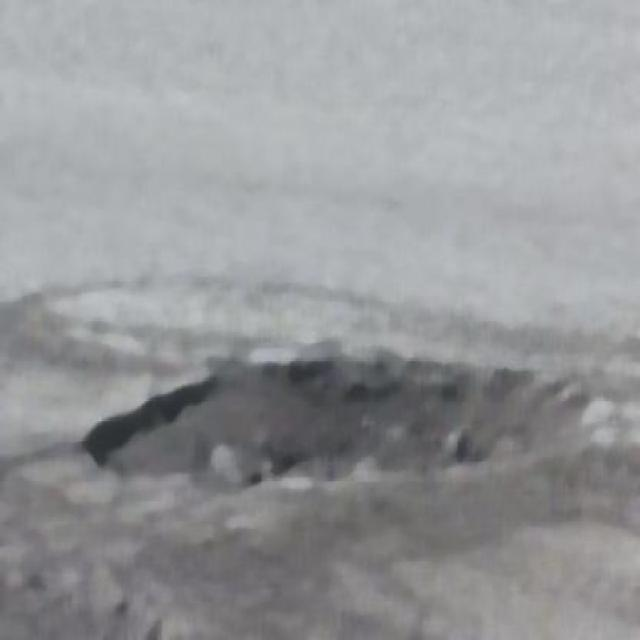Buraco: (77, 338, 598, 502)
